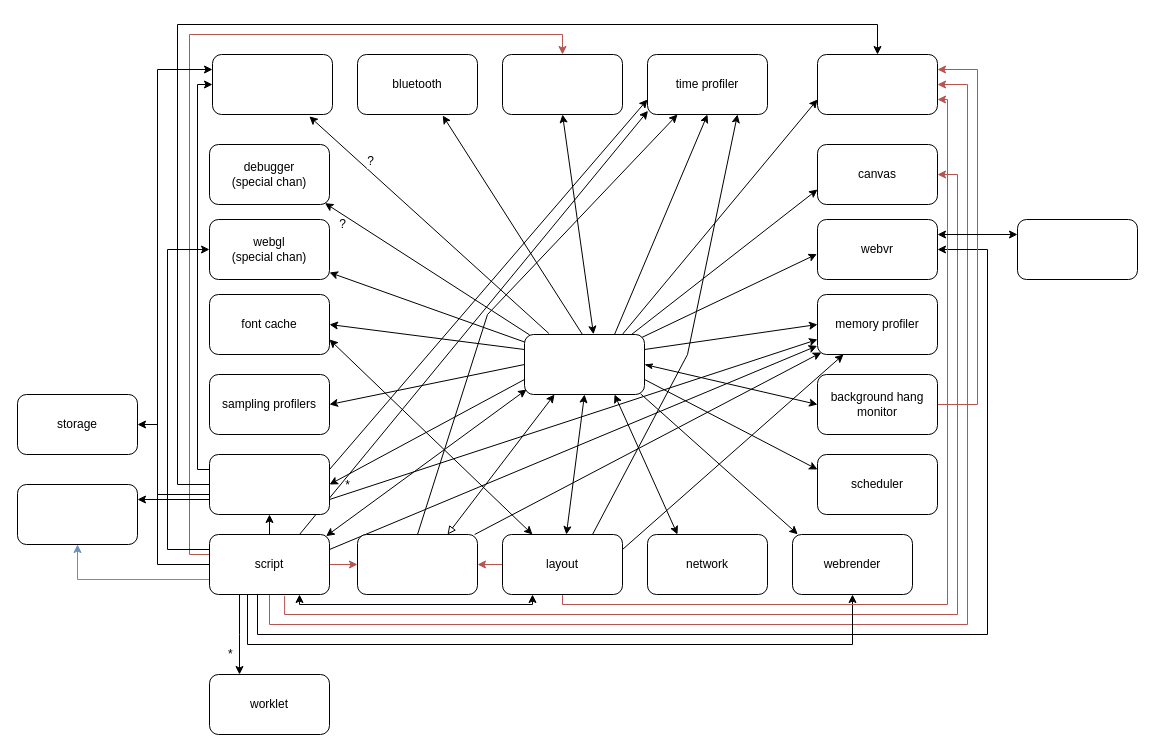
The diagram is 1155 pixels wide and 752 high, and some of its shapes have lost their labels. Each missing label, with the centre of its shape:
"compositor" belongs at [417,564].
"Constellation" belongs at [584,364].
"devtools" belongs at [272,84].
"embedder" belongs at [877,84].
"file manager" belongs at [77,514].
"resource (composite thread)" belongs at [269,484].
"service worker manager" belongs at [562,84].
"webvr compositor" belongs at [1077,249].
